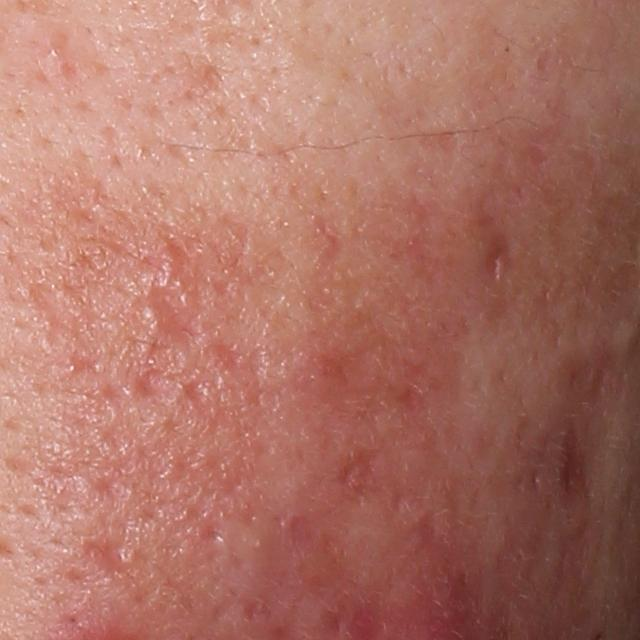atrophic_scar: (77, 534, 147, 580), (330, 443, 377, 495), (559, 425, 586, 502), (483, 235, 507, 286), (132, 366, 163, 401)
